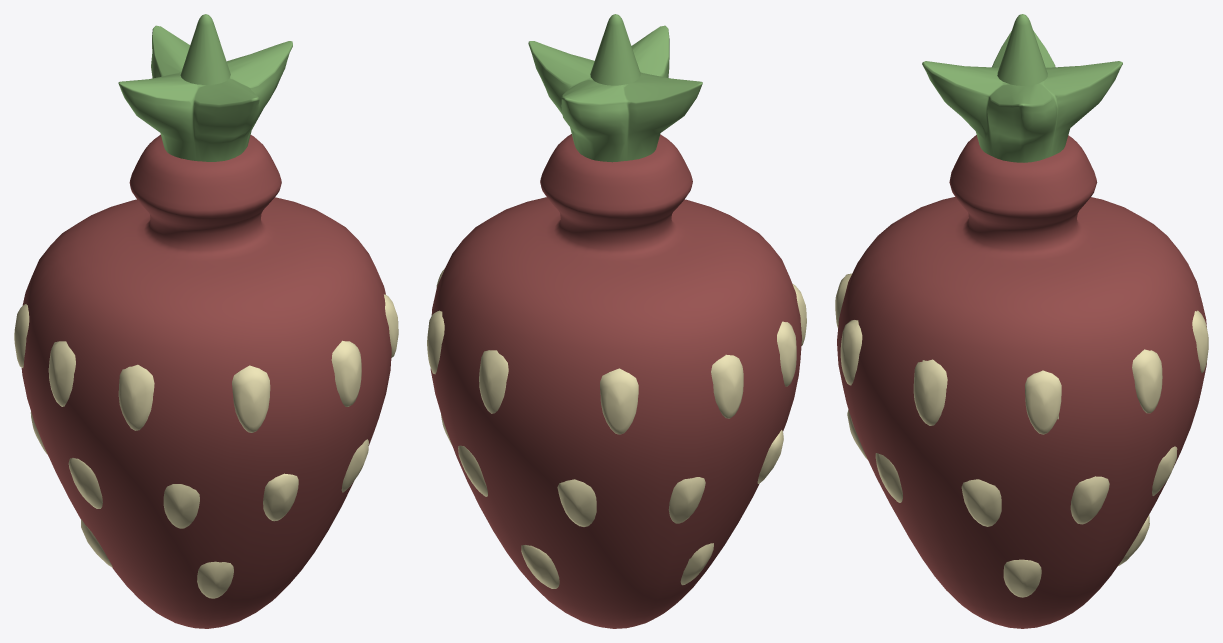
Rendered from Flask.fbx.
The picture shows the model from 3 angles, left to right: view 1: azimuth 30°, elevation 25°; view 2: azimuth 150°, elevation 25°; view 3: azimuth 270°, elevation 25°; orthographic projection.
Visible parts, largest first — view 1: bottle, cap, seeds; view 2: bottle, cap, seeds; view 3: bottle, cap, seeds.
Part boxes in pixels (x1,y1,x2,y2): bottle: [21, 134, 391, 628]; cap: [118, 14, 292, 161]; seeds: [14, 294, 398, 598]; bottle: [430, 134, 801, 628]; cap: [528, 14, 702, 162]; seeds: [427, 268, 806, 588]; bottle: [837, 135, 1206, 628]; cap: [922, 14, 1122, 162]; seeds: [835, 273, 1208, 597].
Size of the model in its own units: 1.61 by 2.81 by 1.56.
